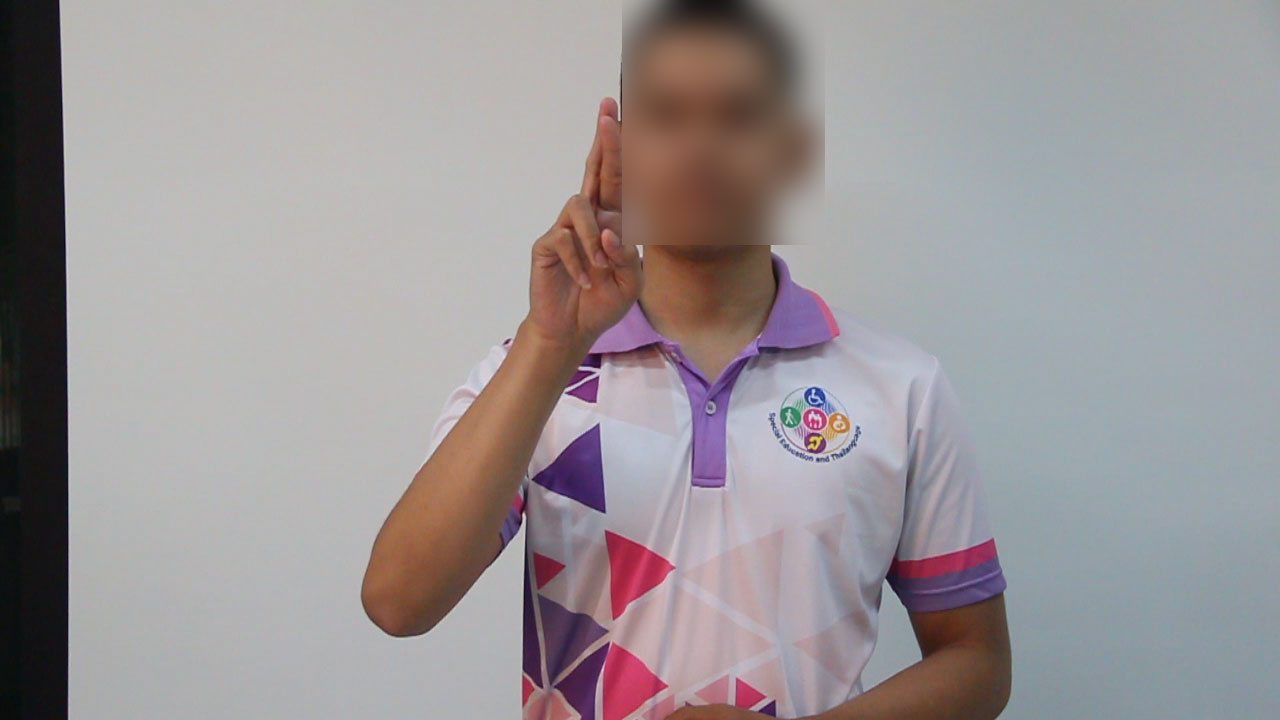rao: (495, 91, 647, 343)
